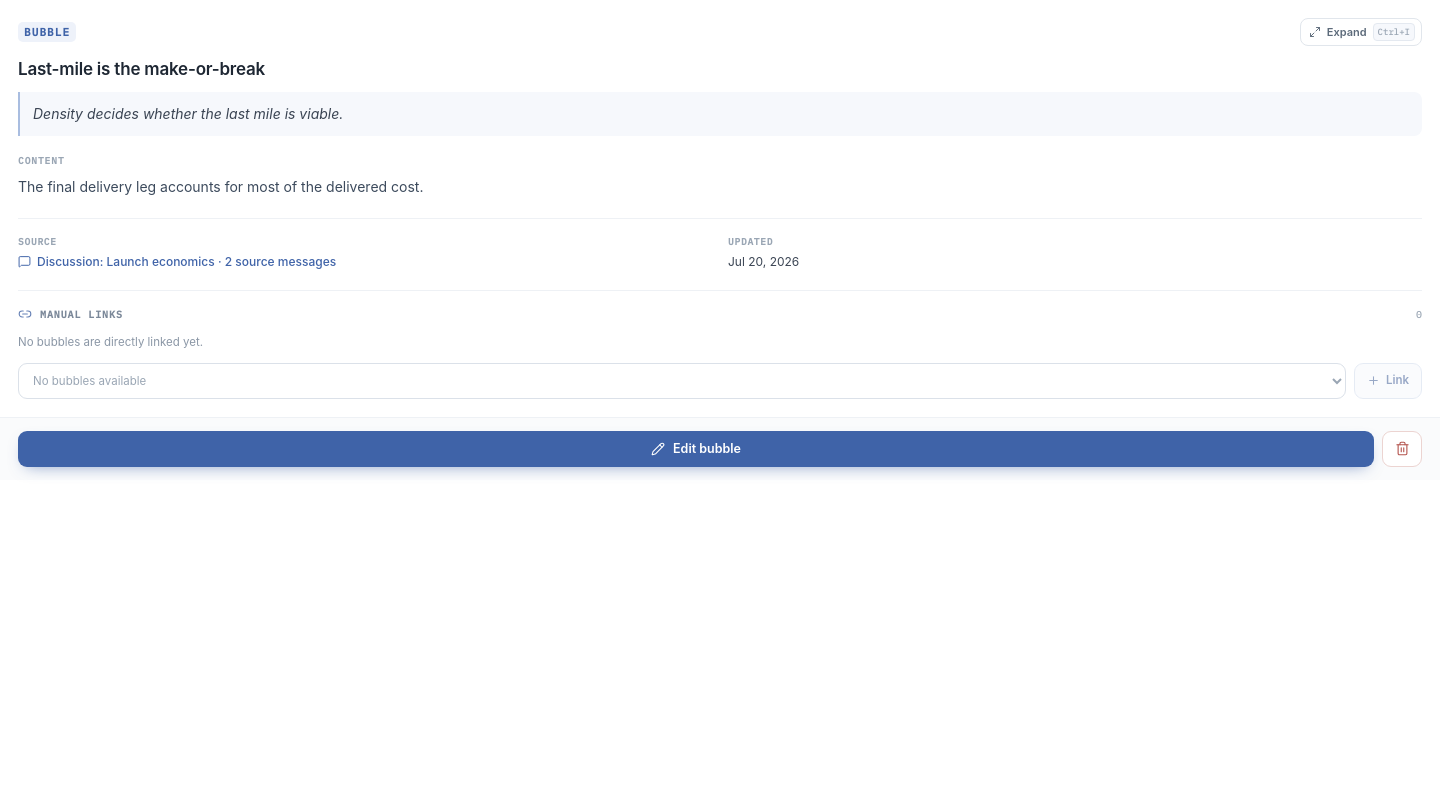
Scenario: BubbleInspector › closes the expanded reading dialog on its close control and on the backdrop
This screenshot has width=1440, height=810.
Click the button "Expand Ctrl+I": [1361, 32] box top-left (1300, 18), bottom-right (1422, 46)
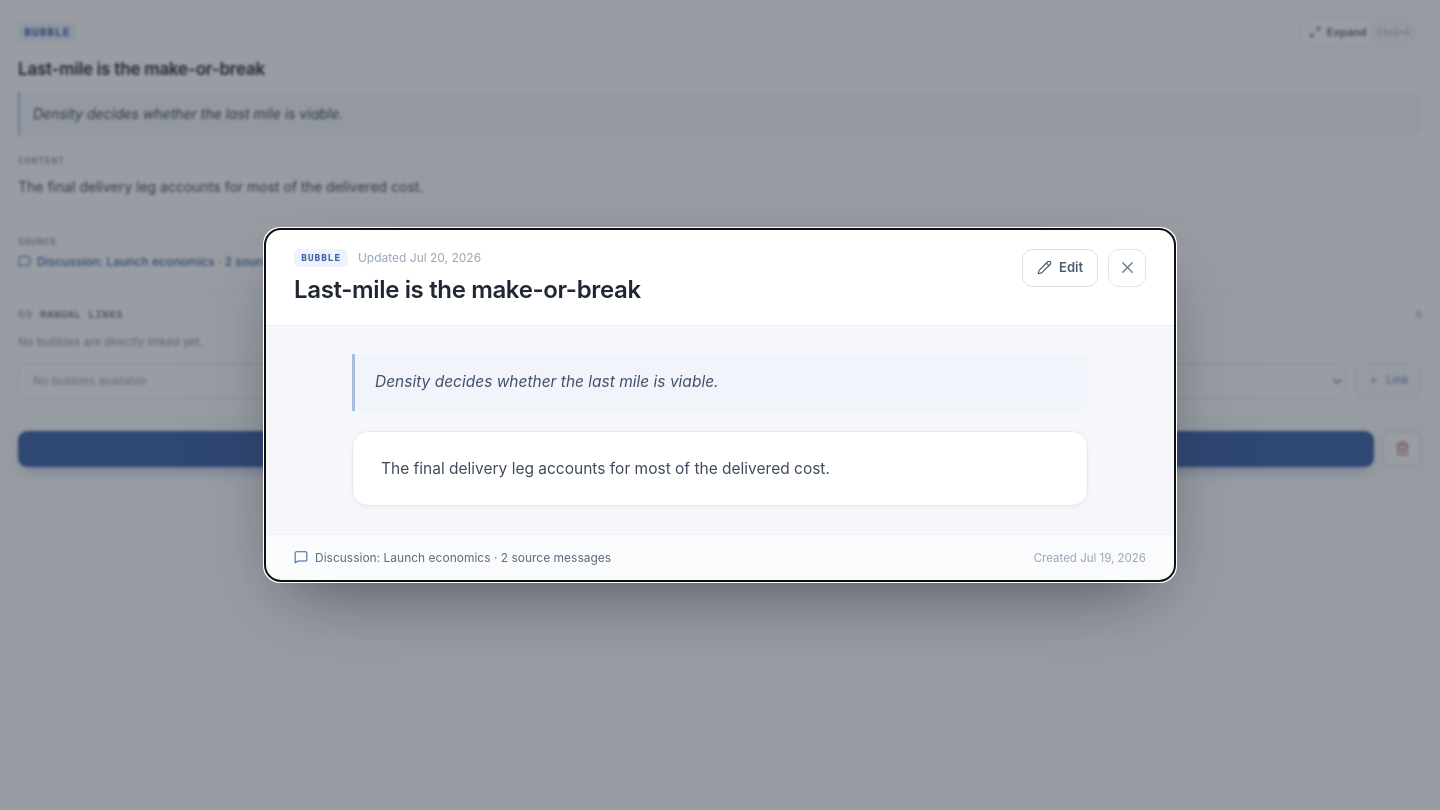
Click the button named "Close expanded bubble": [1127, 268] box top-left (1108, 249), bottom-right (1146, 287)
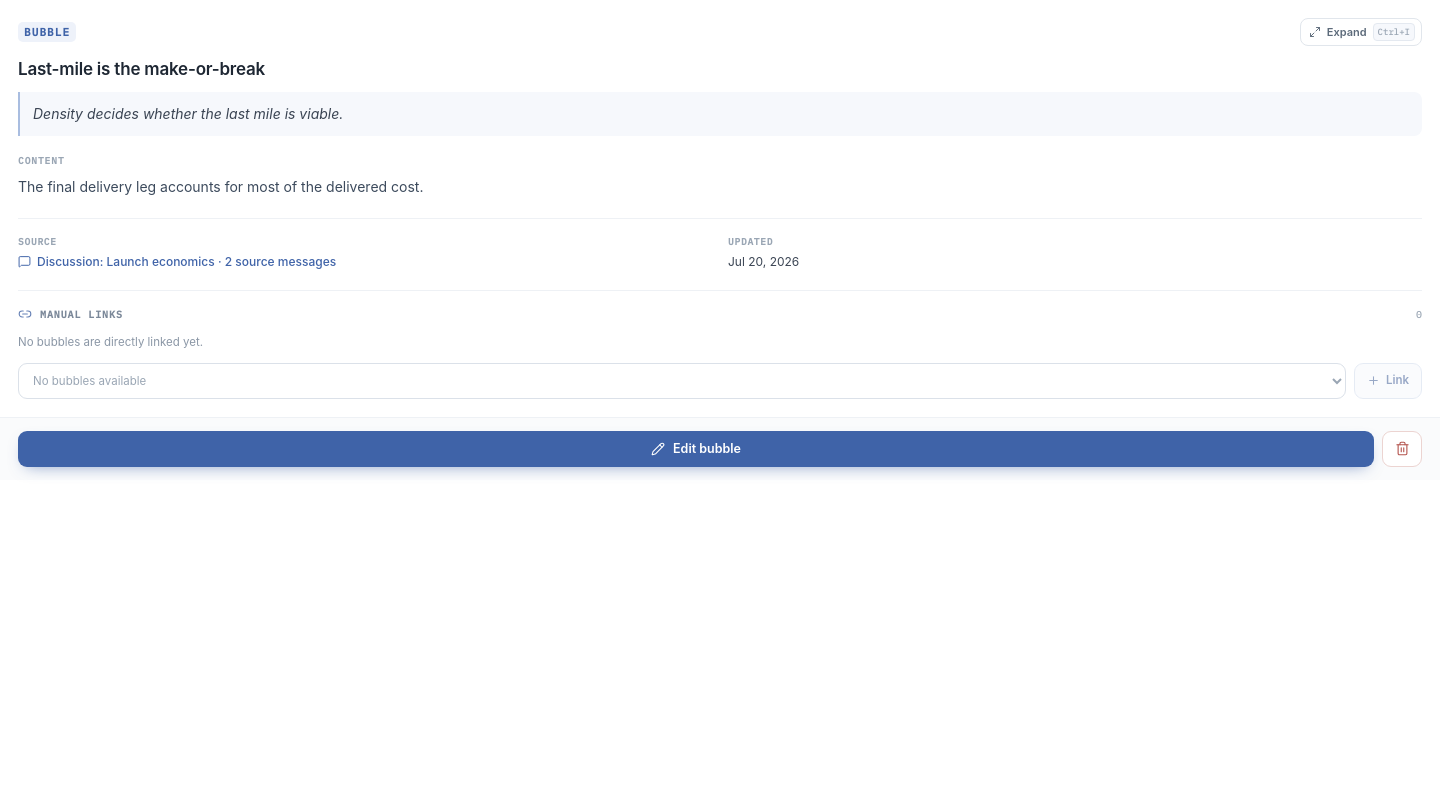
Now the dialog is gone
Click the button "Expand Ctrl+I": [1361, 32] box top-left (1300, 18), bottom-right (1422, 46)
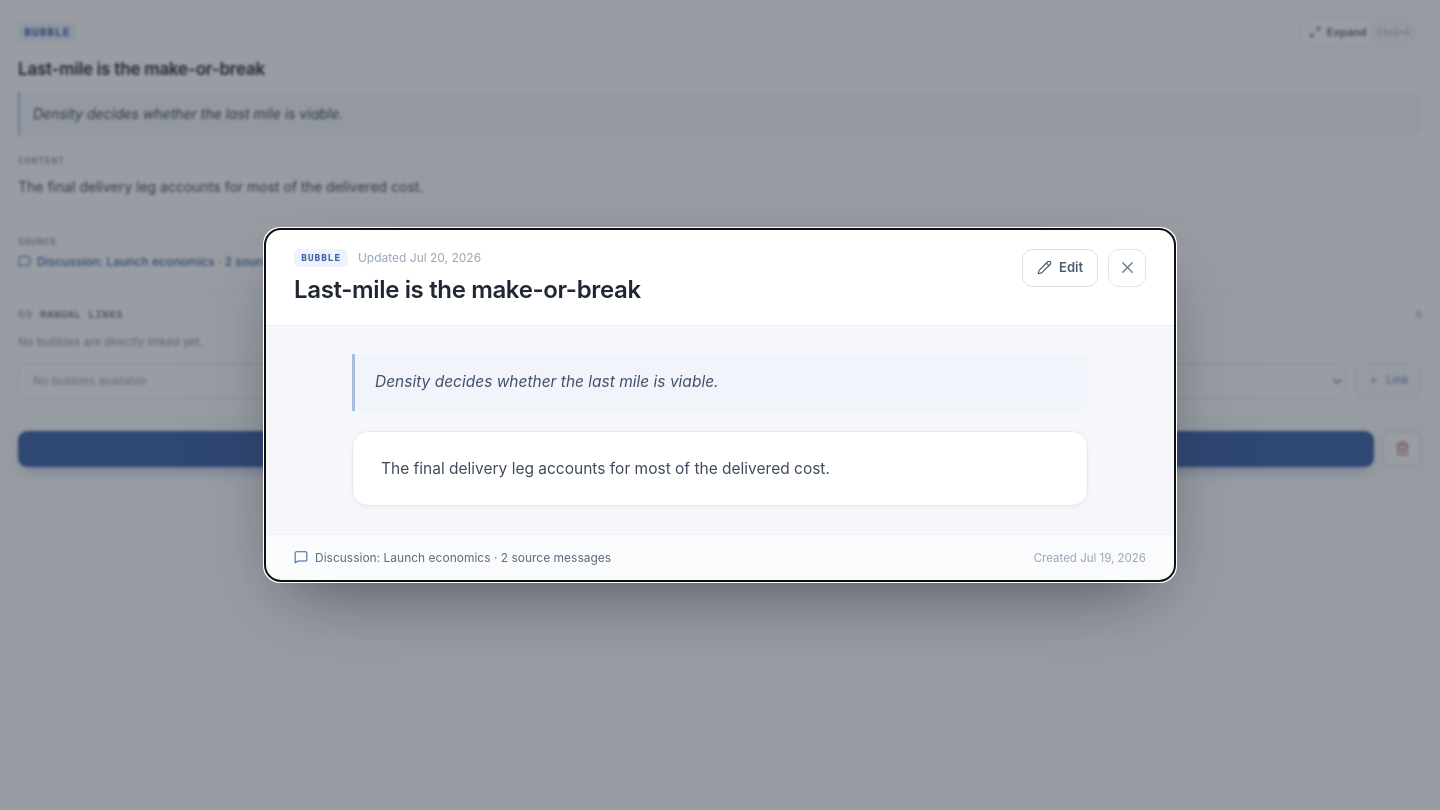
Press the mouse on the element that starts with "BUBBLE": [720, 405] box top-left (0, 0), bottom-right (1439, 809)
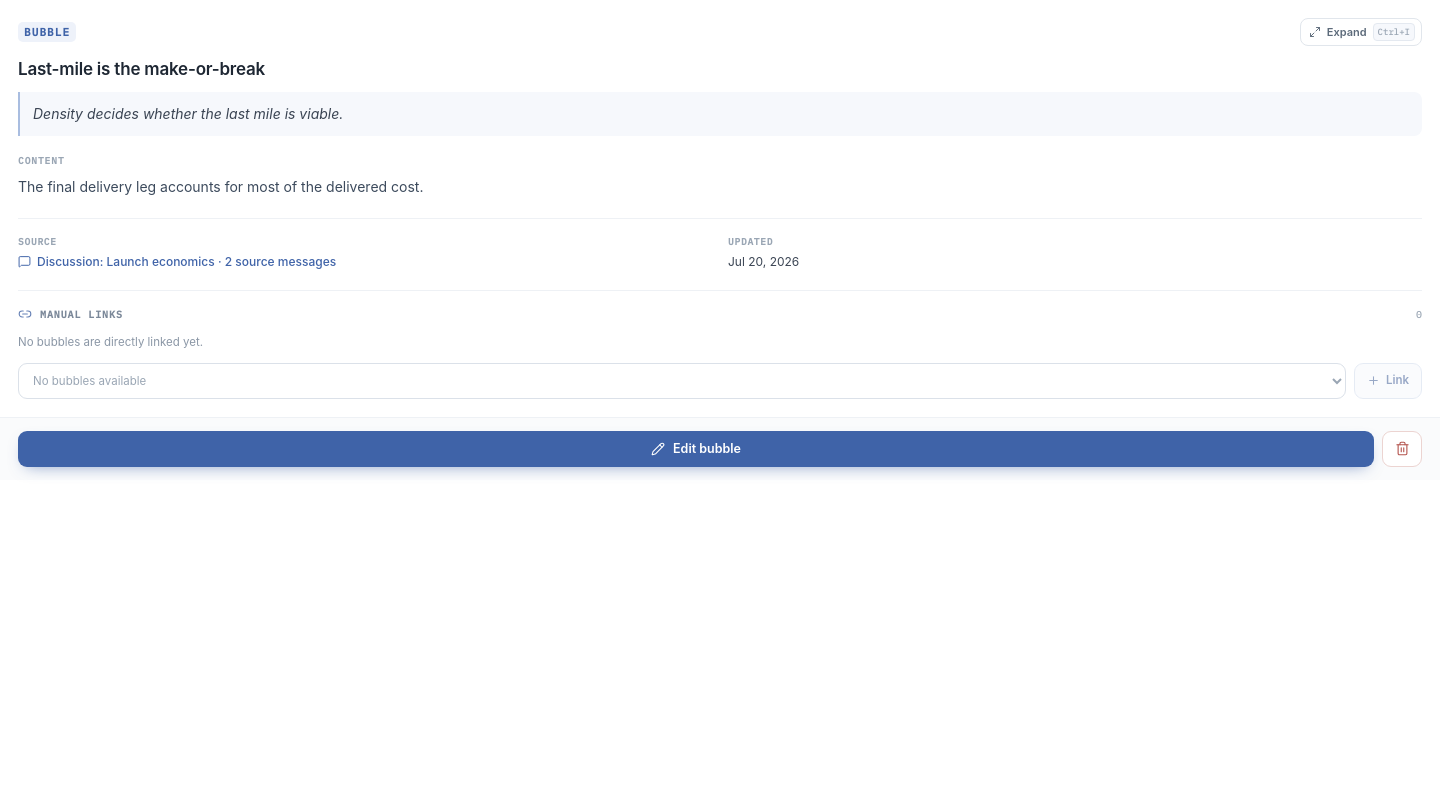
Now the dialog is gone
